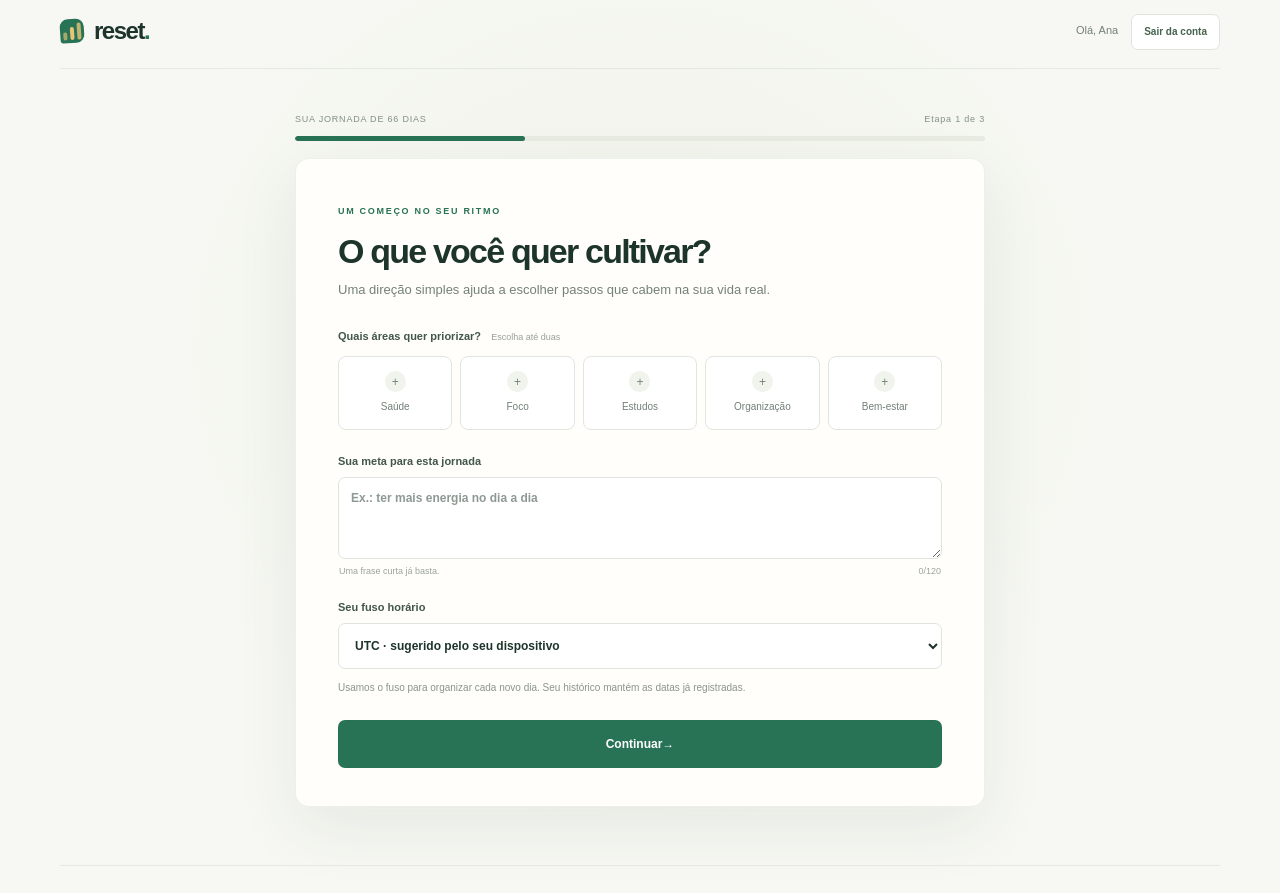
onboarding wizard › guides a user through focus, habits and a final review
The width and height of the screenshot is (1280, 893).
expect the heading "O que você quer cultivar?" is shown: met, box [338,232,711,270]
Click the button "+ Estudos" at x=640, y=393, box [583,356,697,430]
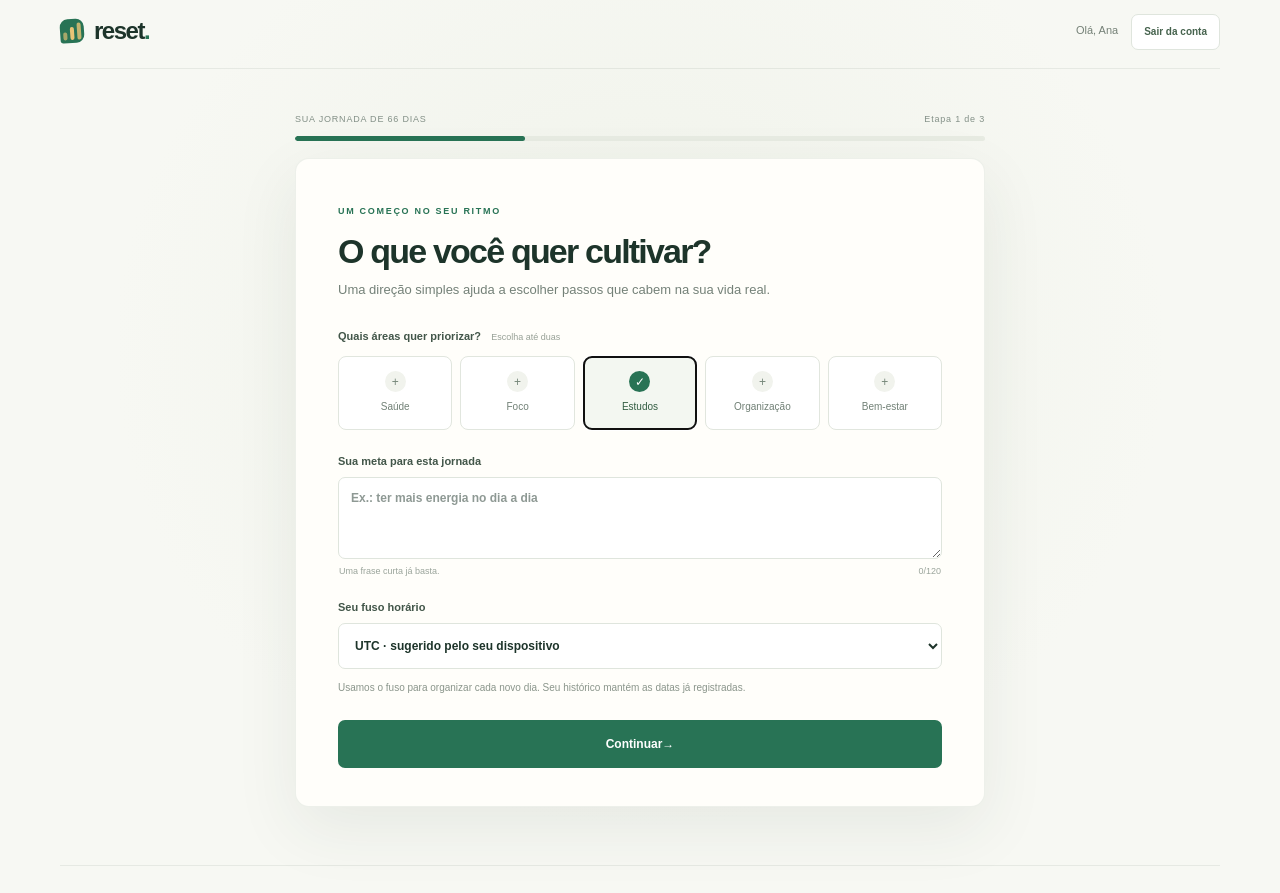
Type "Ler mais com calma" into the text box labelled "Sua meta para esta jornada" at x=640, y=518, box [338,477,942,559]
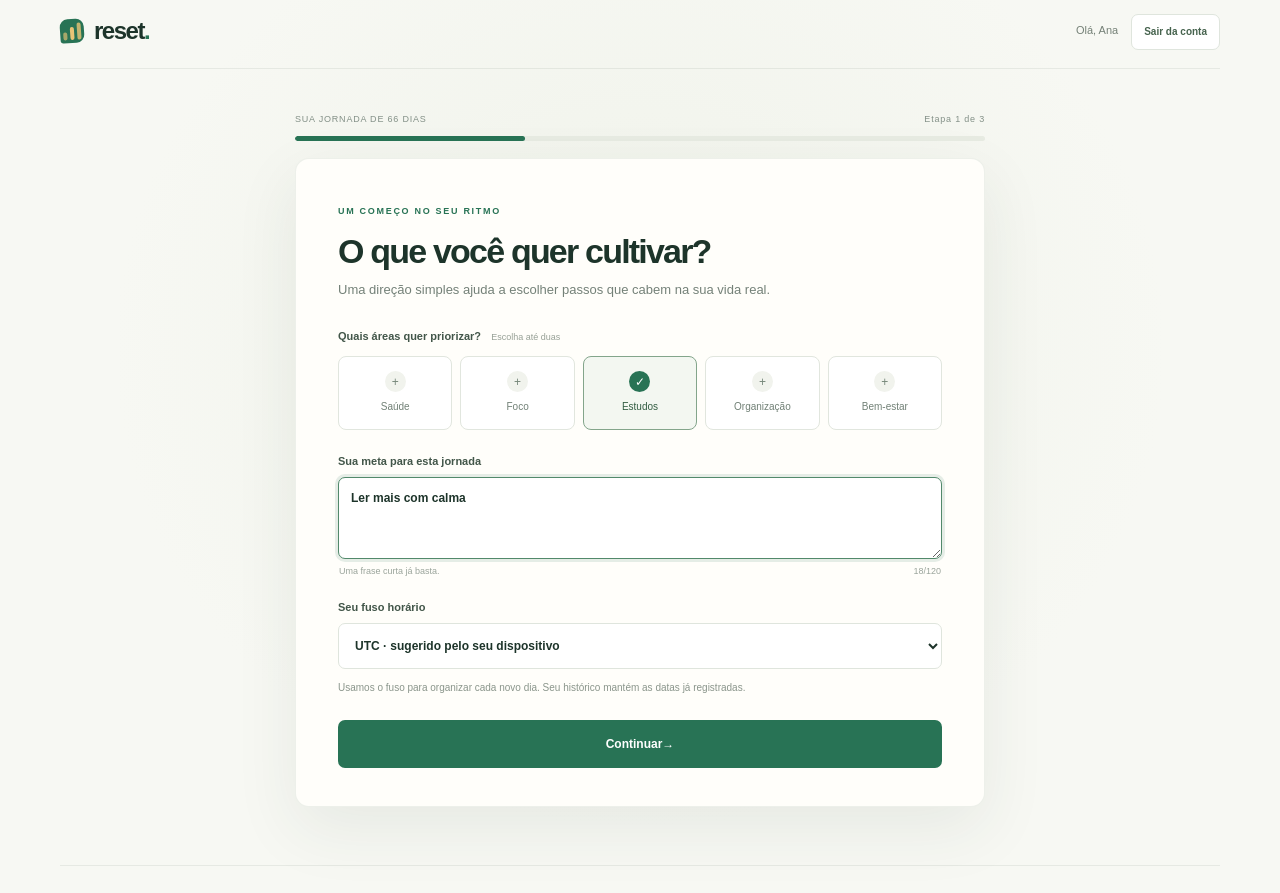
Click the button "Continuar →" at x=640, y=744, box [338,720,942,768]
(page scrolled)
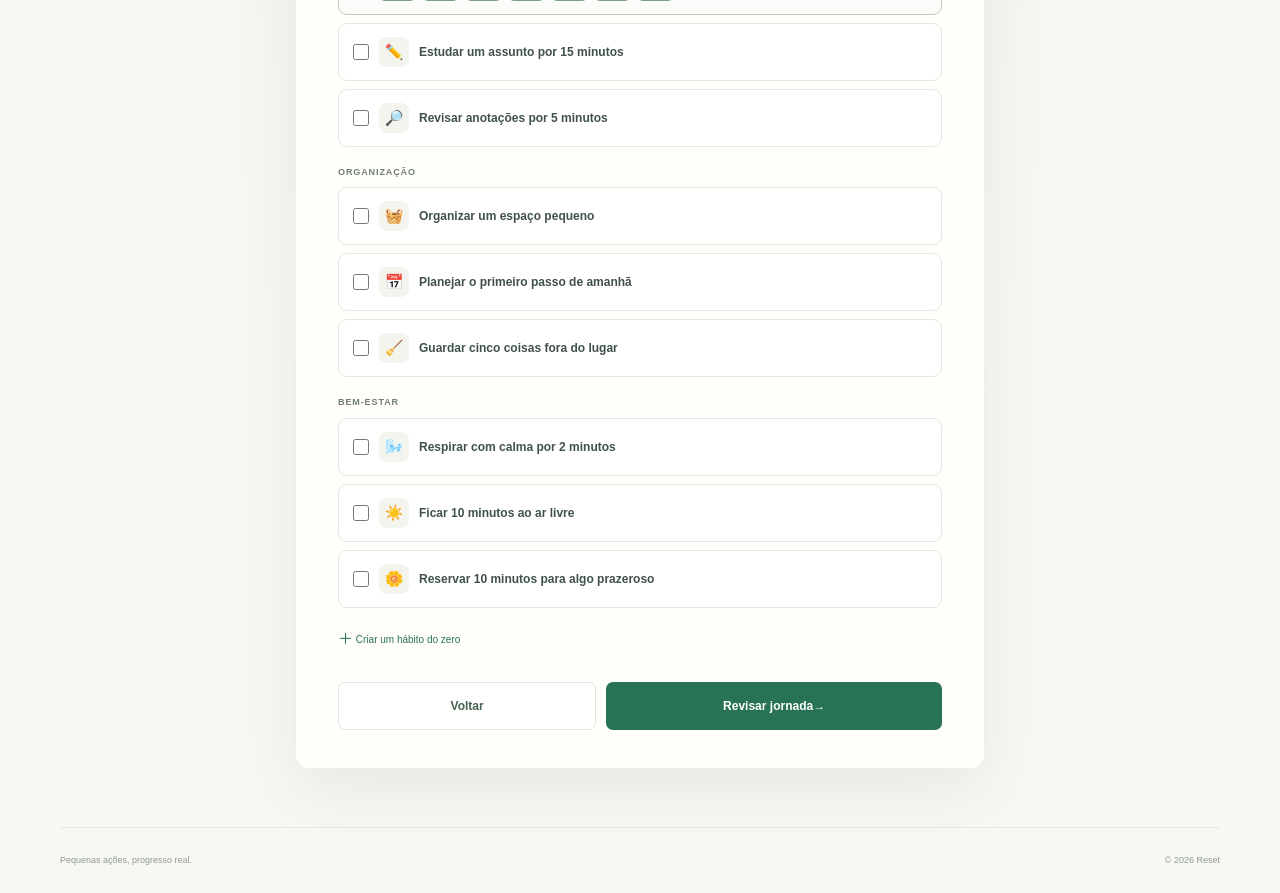
Click the button "Revisar jornada →" at x=774, y=706, box [606,682,942,730]
(page scrolled)
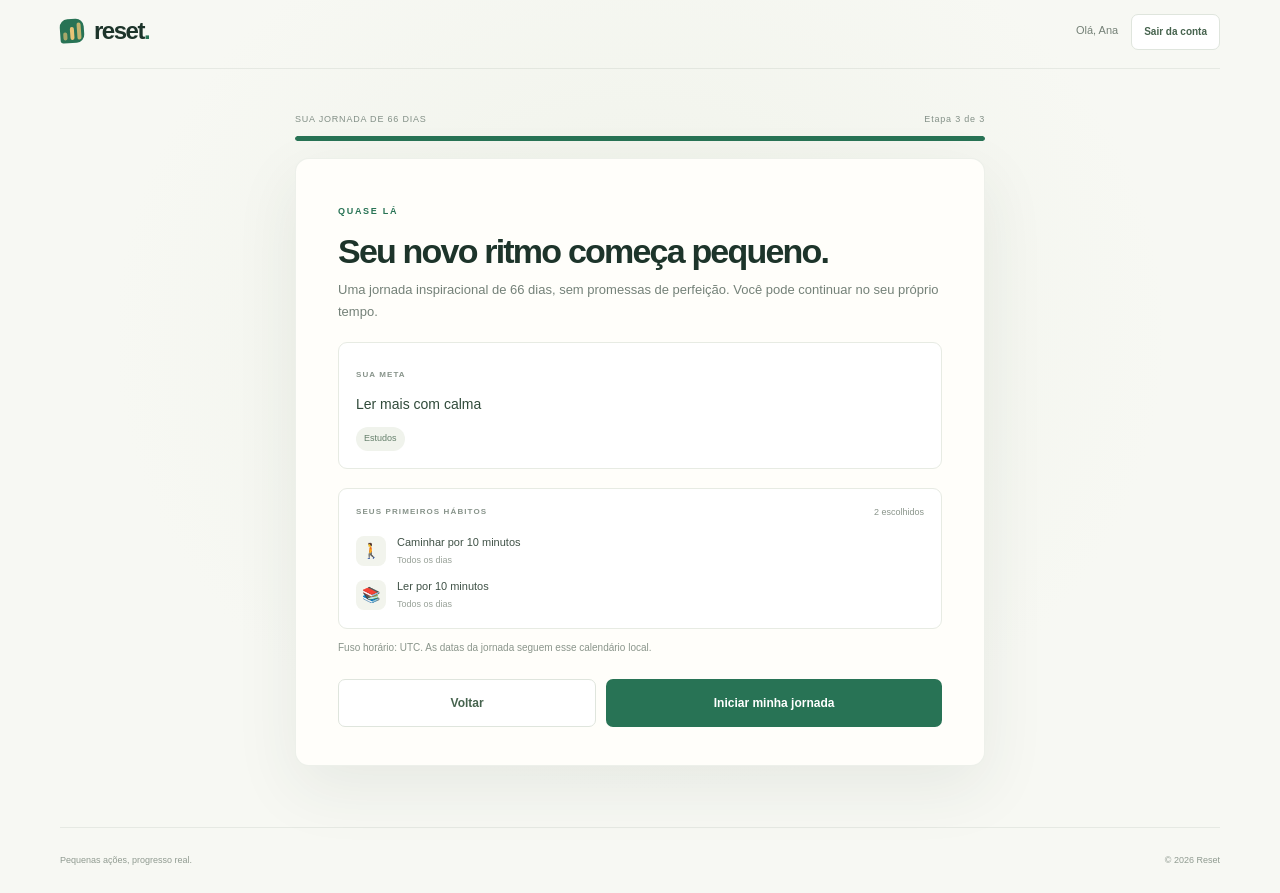
expect the heading "Seu novo ritmo começa pequeno." is shown: met, box [338,232,848,270]
expect the text "Ler mais com calma" is shown: met, box [356,396,481,412]
expect the button "Iniciar minha jornada" is shown: met, box [606,679,942,727]
